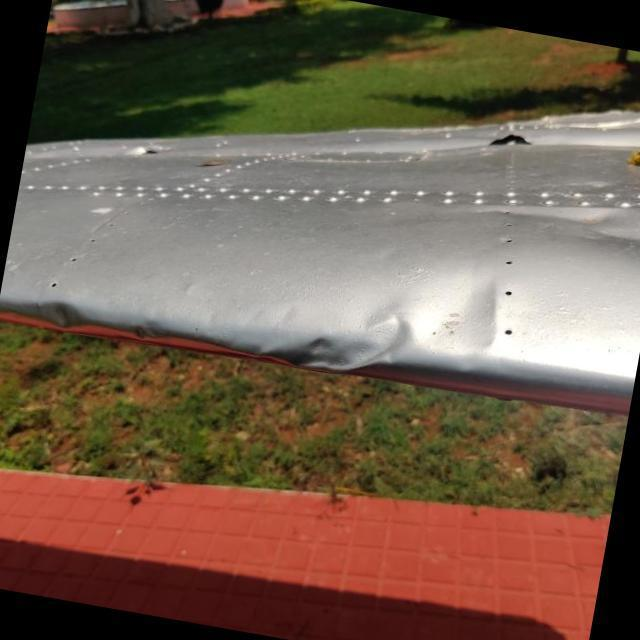dent: (394, 252, 506, 358), (461, 204, 639, 268), (247, 302, 408, 372), (24, 300, 86, 332)
